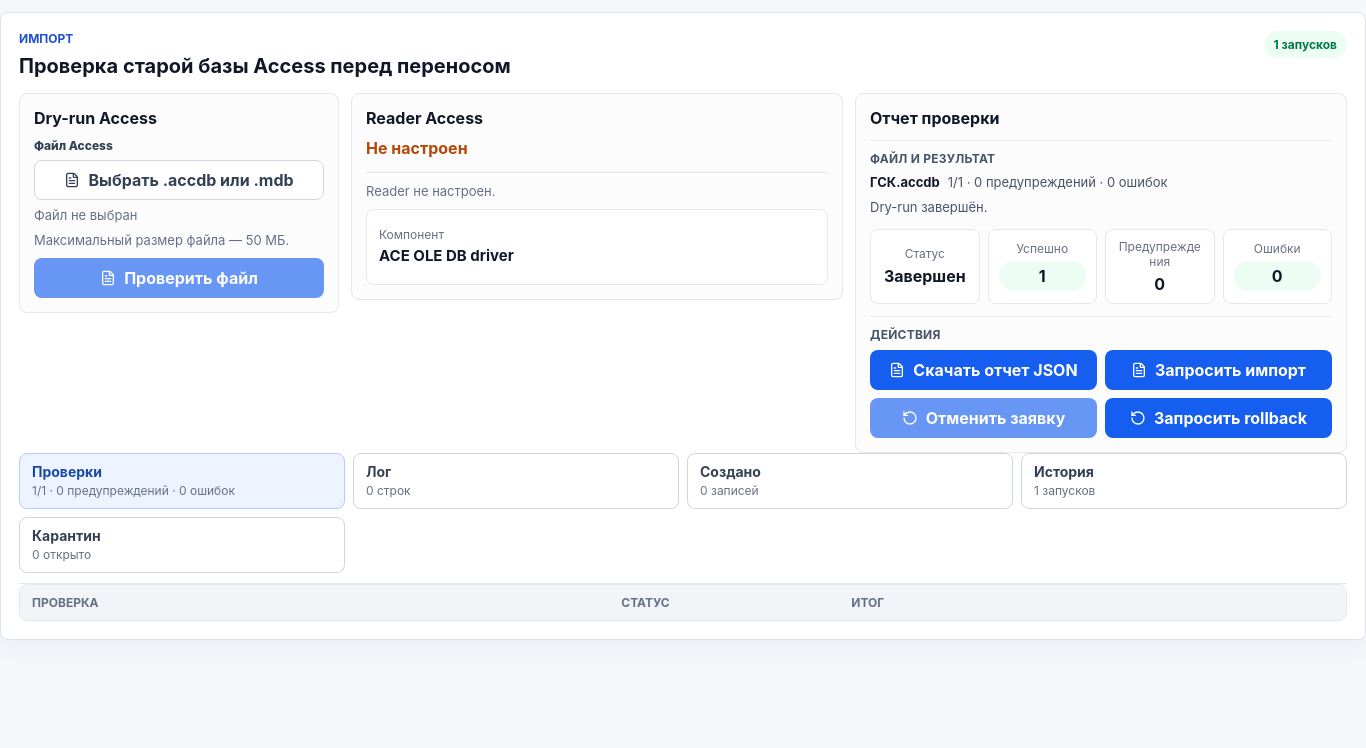
Test case: ImportPanel server failures › does not refresh a hidden log after apply and keeps a later log failure separate
Click the button with aria-label "Запросить фактический импорт ГСК.accdb" at point(1218, 370), box [1105,350,1332,390]
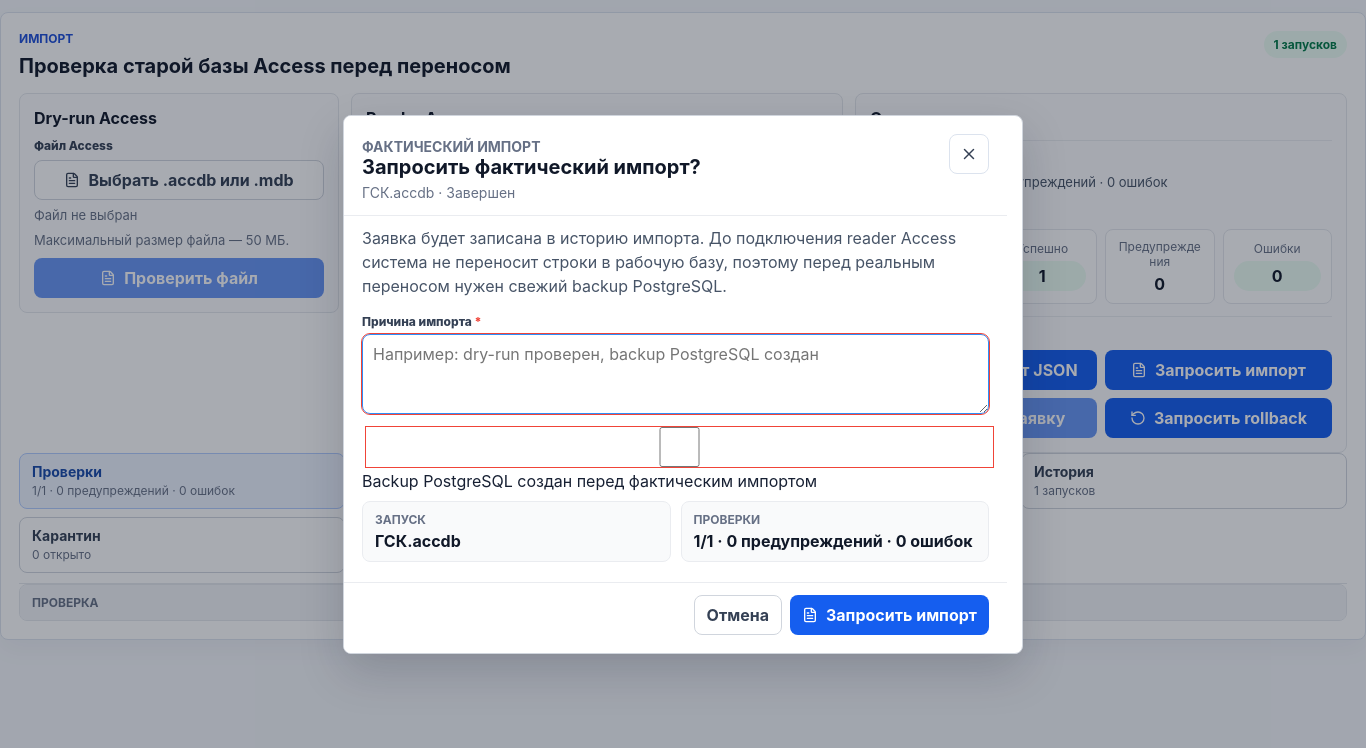
Type "Dry-run проверен, backup создан" into the text box named "Причина фактического импорта" at point(676, 374), box [362,334,989,414]
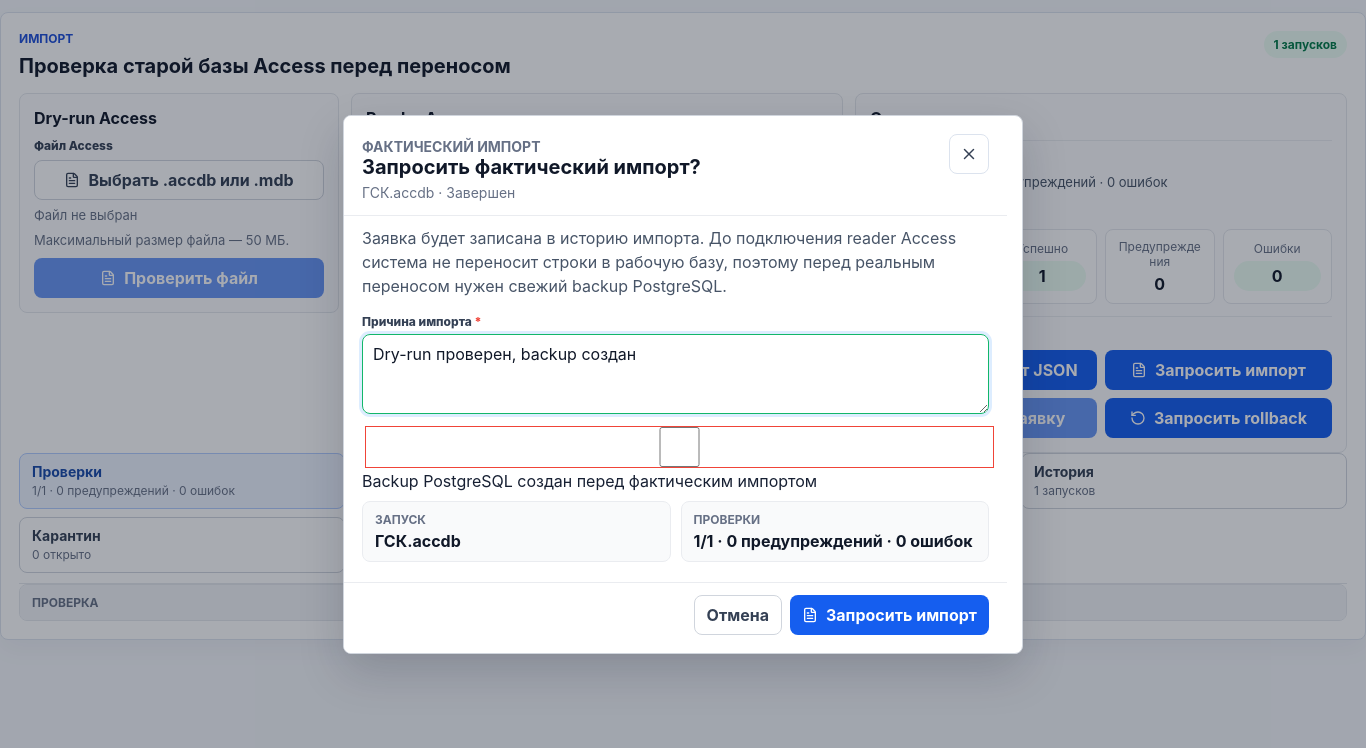
Click the checkbox labelled "Backup PostgreSQL создан перед фактическим импортом" at point(680, 446), box [366,426,993,466]
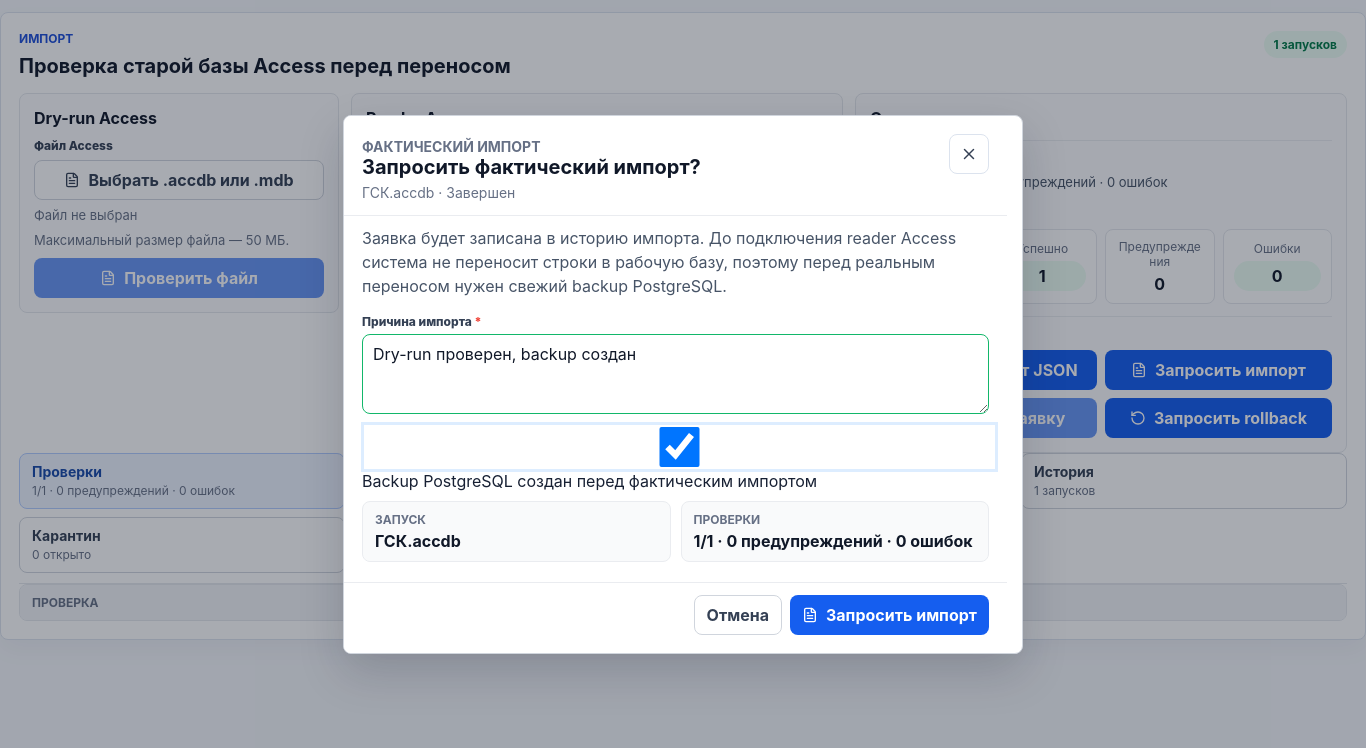
Click the button "Запросить импорт" at point(890, 614), box [790,594,989,634]
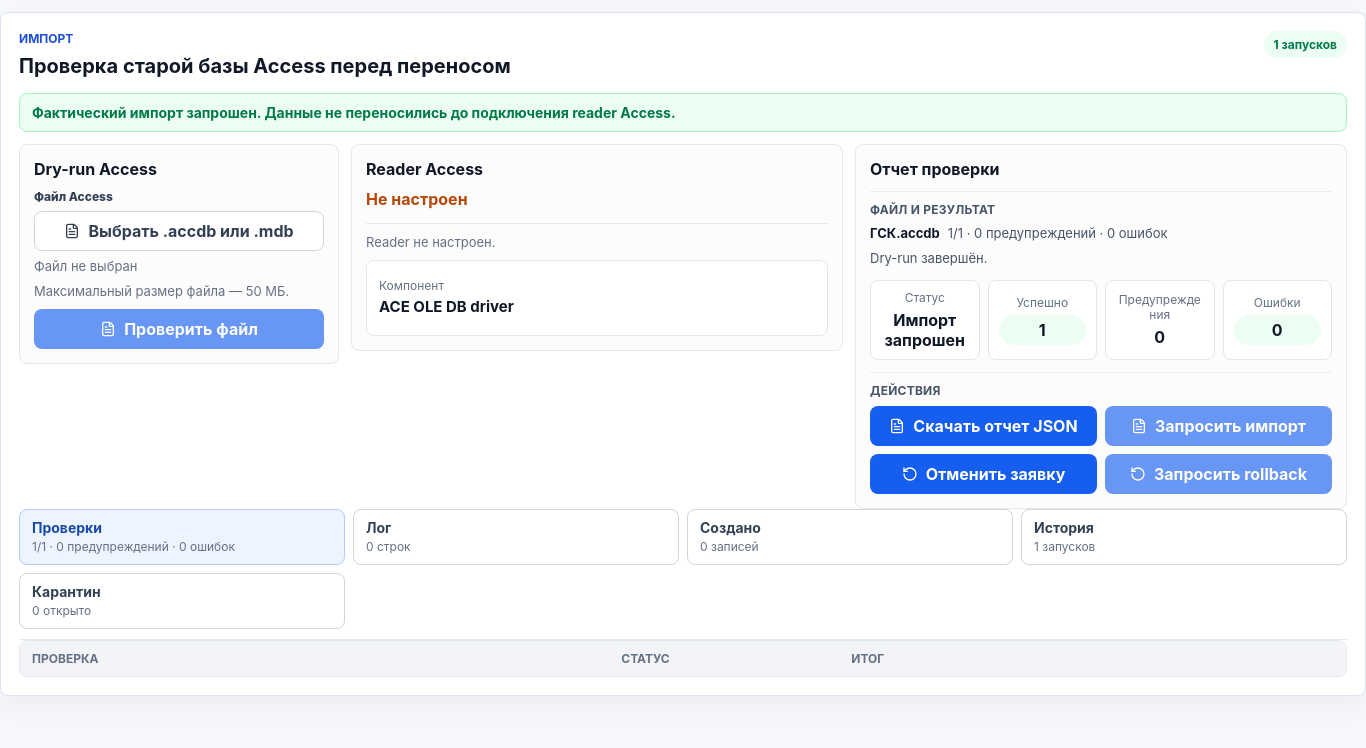
Now the heading "Запросить фактический импорт?" is gone
Click the tab "Лог 0 строк" at point(388, 547), box [353,509,679,565]
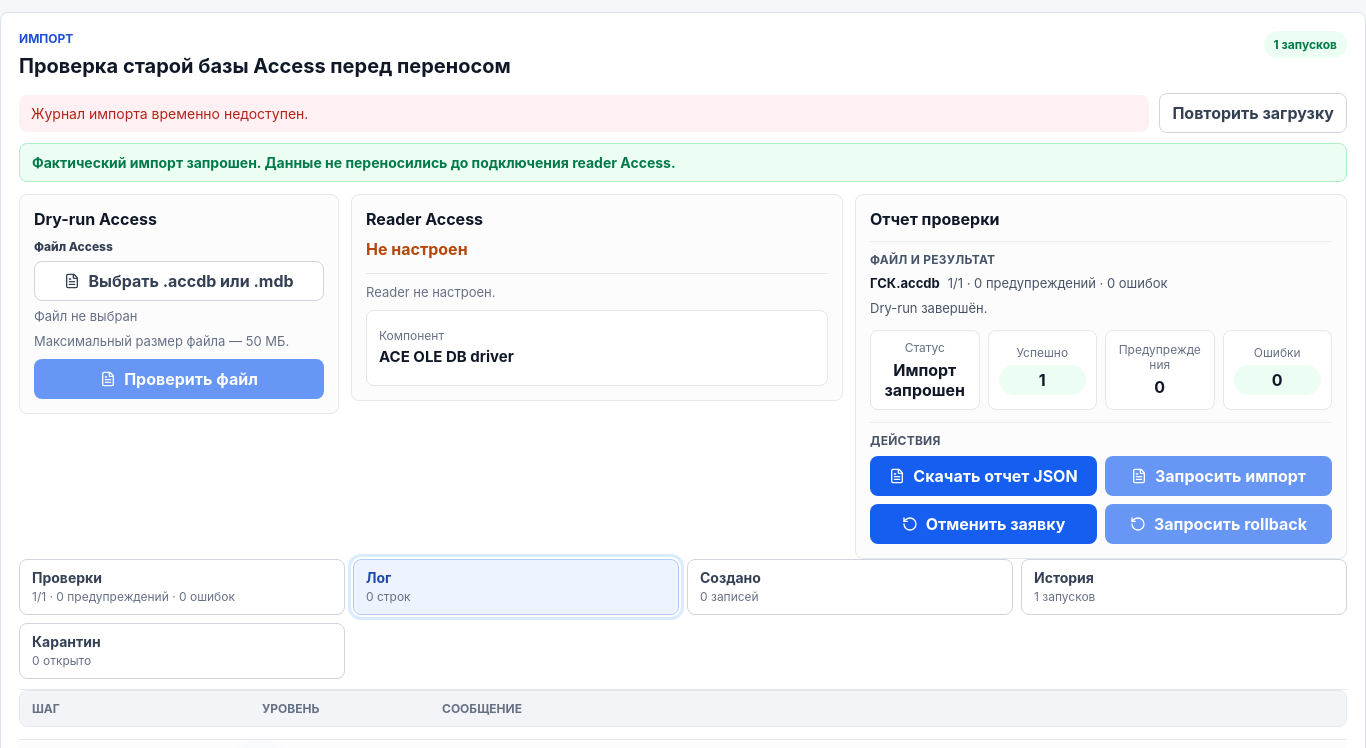
Now the message "Журнал импорта временно недоступен." is shown, box [19,94,1149,132]
